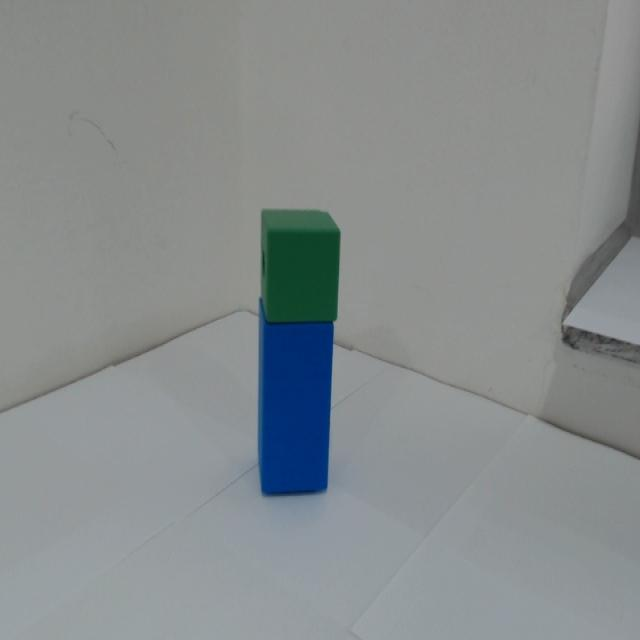cube: (254, 204, 342, 323)
